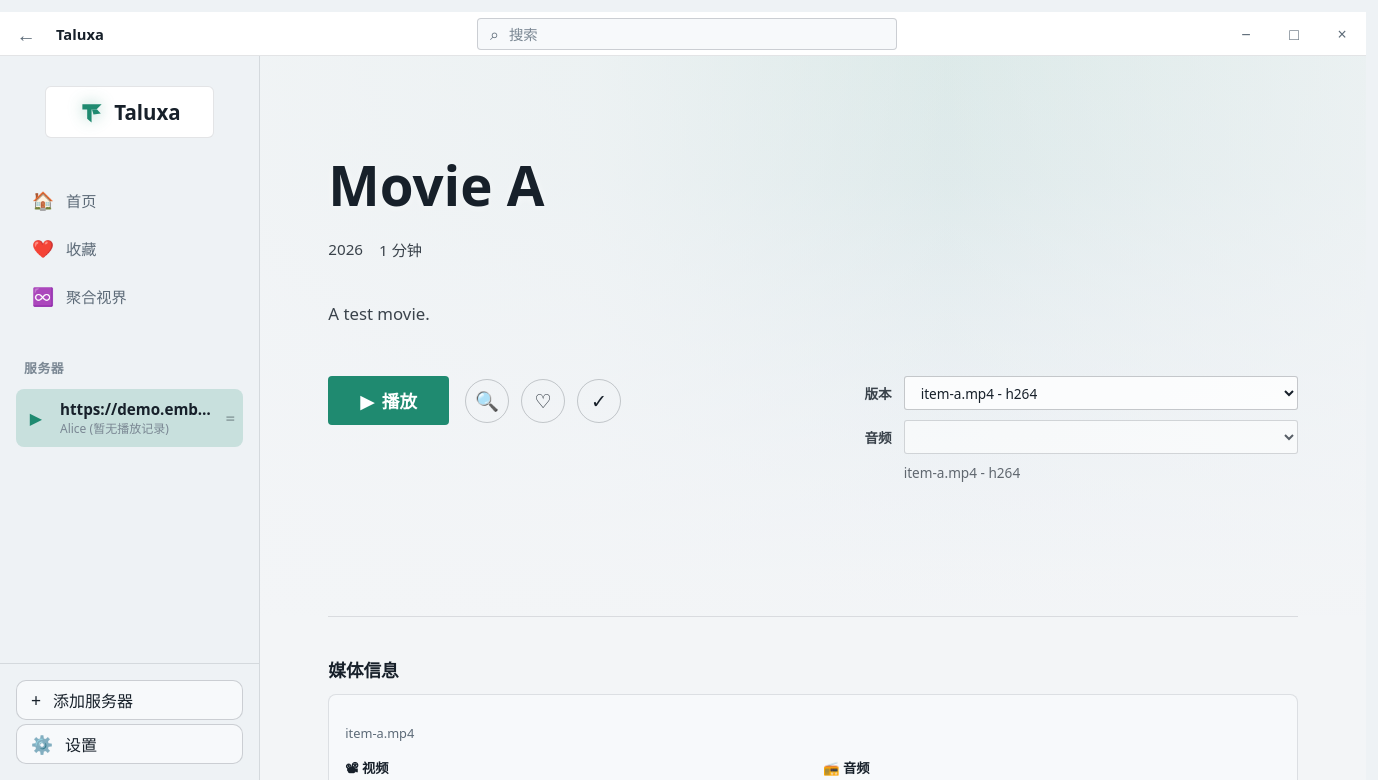
Test case: App › discards an accepted unresolved marker result when navigating to another item route
Click the button "▶ 播放".
click(389, 401)  # box [328,376,449,426]
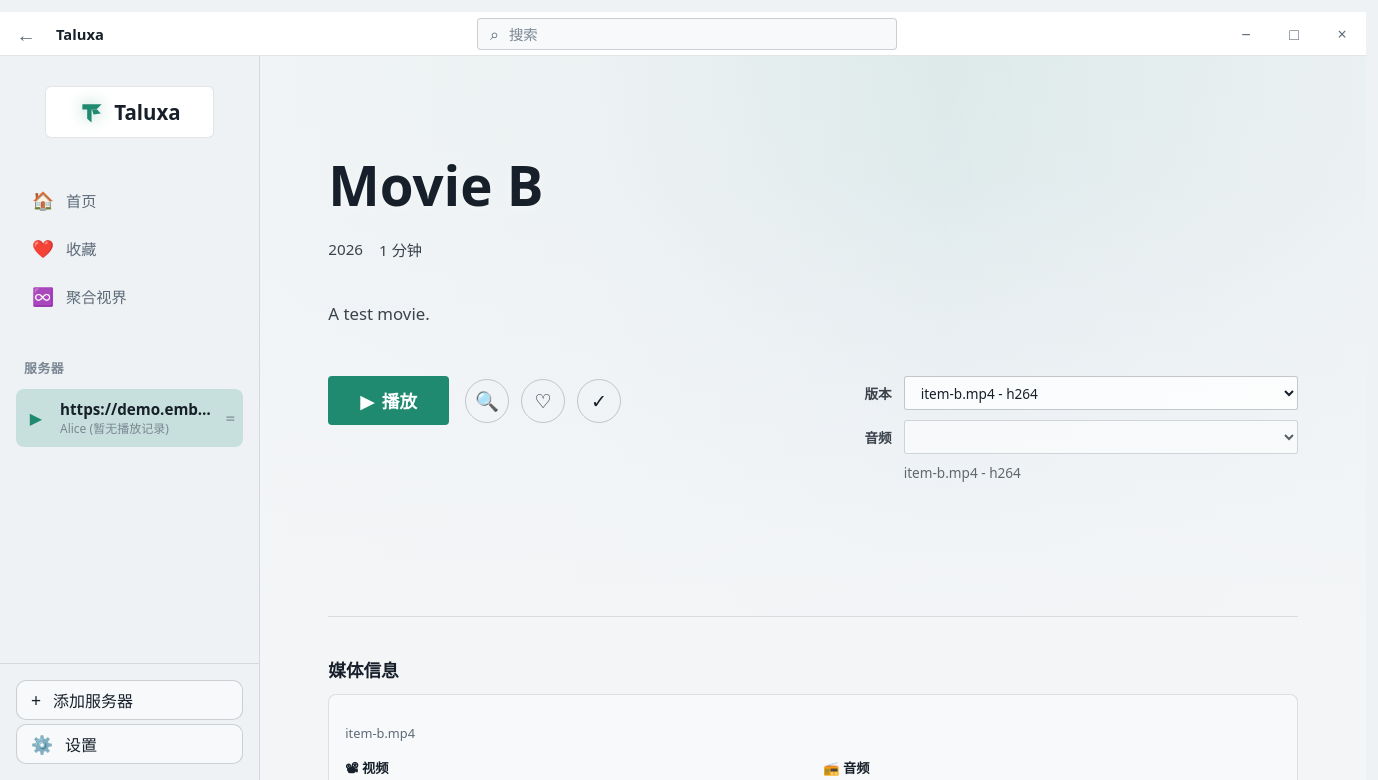
Expected: the heading "Movie B" is shown, [328,148,544,222]
